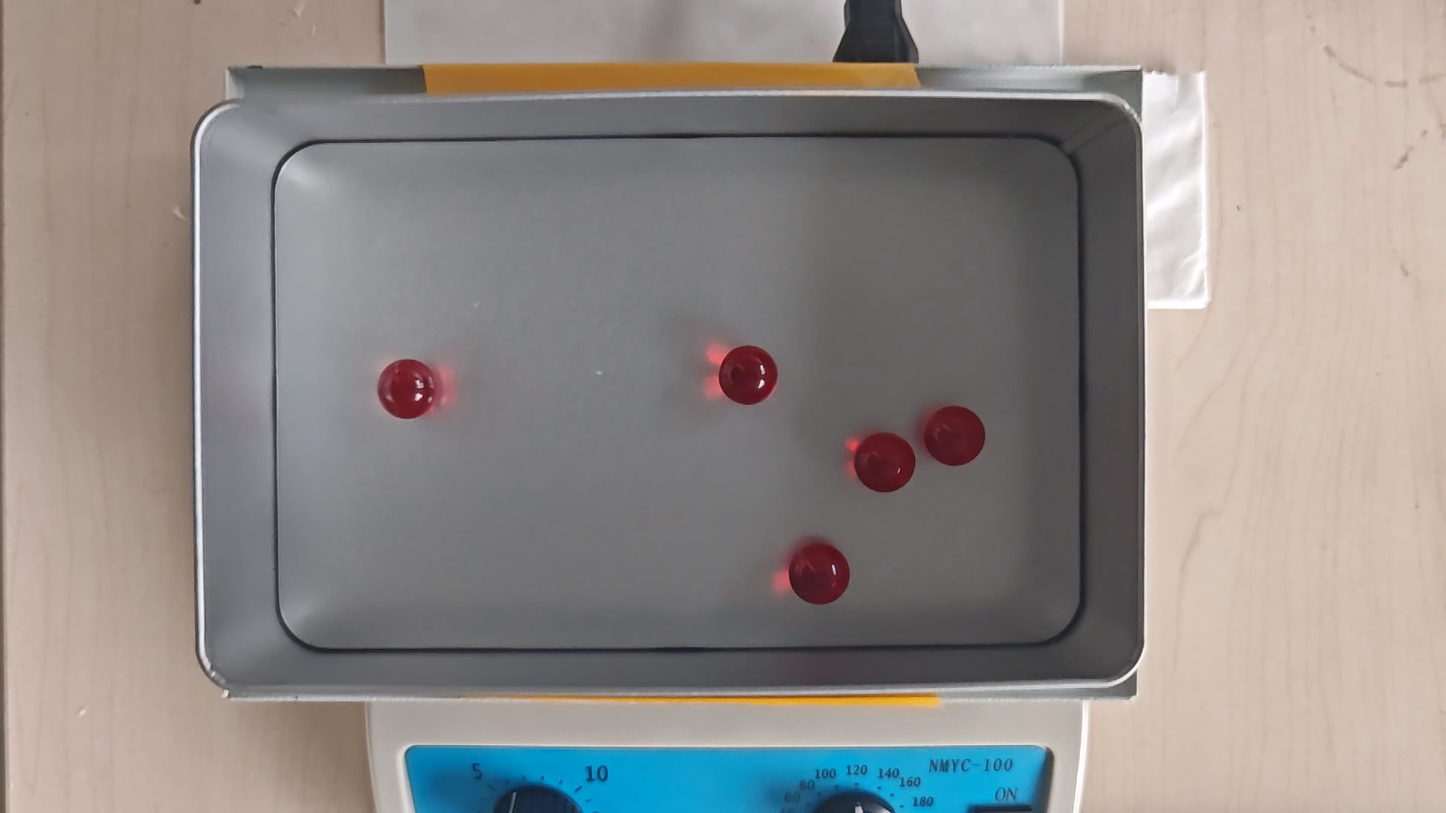ball: (789, 542, 851, 607), (378, 358, 440, 422), (855, 431, 915, 493), (926, 406, 984, 467), (720, 346, 778, 405)
container: (275, 136, 1082, 649)
